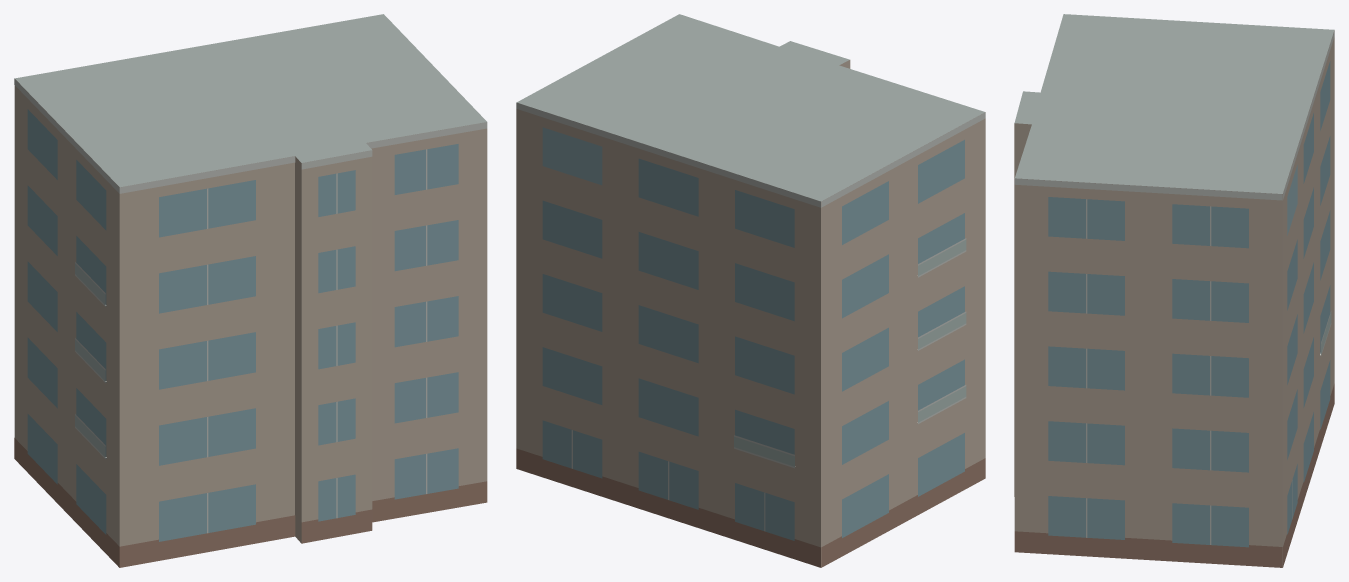
Rendered from survey-upis-32932217.glb.
3 renders of one model, left to right at view 1: azimuth 30°, elevation 25°; view 2: azimuth 150°, elevation 25°; view 3: azimuth 270°, elevation 25°, orthographic. The views are drawn at different scales.
Parts seen in each view (by area): view 1: survey-upis-32932217.tmp; view 2: survey-upis-32932217.tmp; view 3: survey-upis-32932217.tmp.
Boxes of the visible parts, <box> form: survey-upis-32932217.tmp: <box>14,14,487,567</box>; survey-upis-32932217.tmp: <box>516,14,985,567</box>; survey-upis-32932217.tmp: <box>1014,14,1334,567</box>.
Size of the model in its own units: 14.68 by 14.2 by 11.03.
